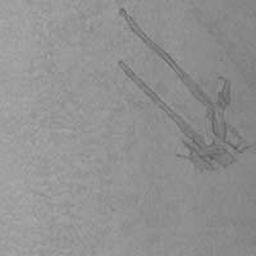Water spot: (118, 6, 251, 173)
